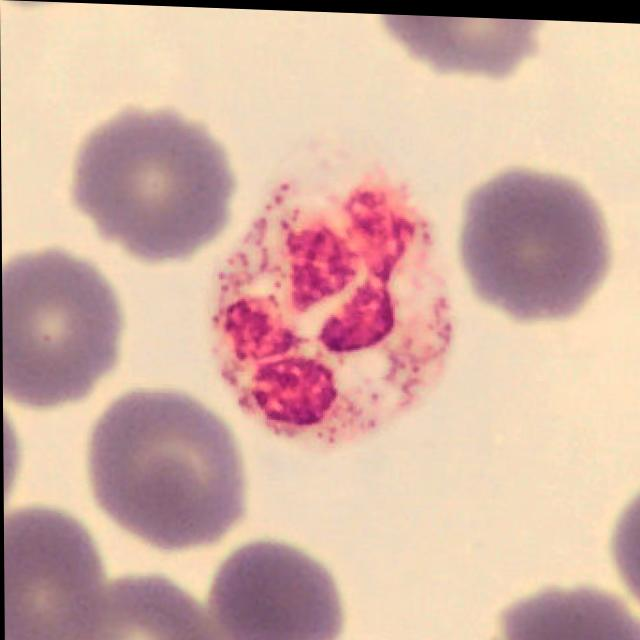Restos celulares: (208, 133, 455, 448)
